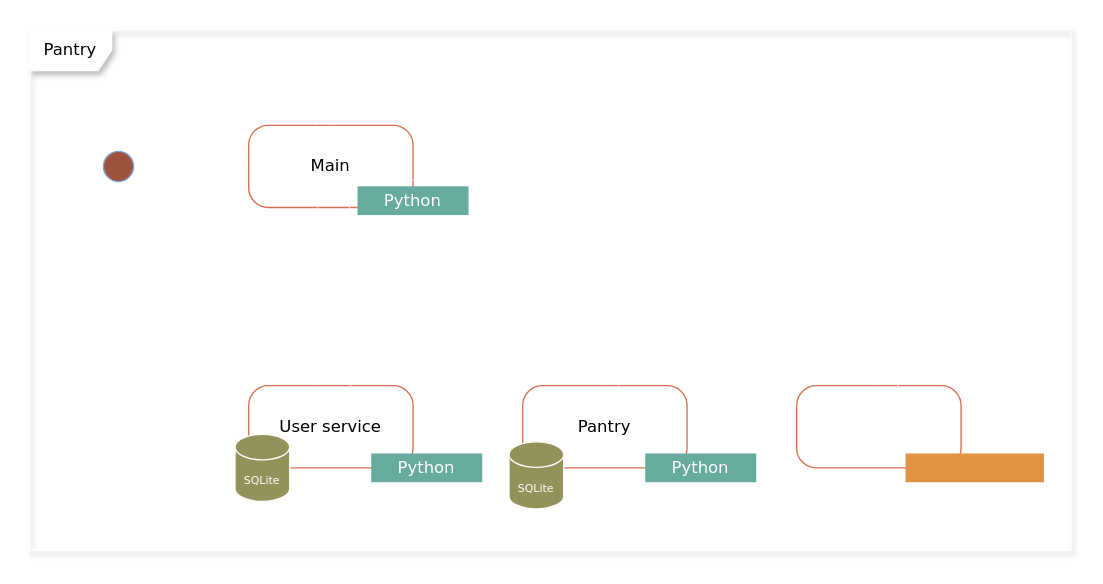
Image size: 1103x584. Some labels were removed from this diagram. Here are the shapes that lost their labels. From the top down, the centre of each, then its label:
the point at 878,426: Recipe
the point at 974,467: SpoonacularAPI
